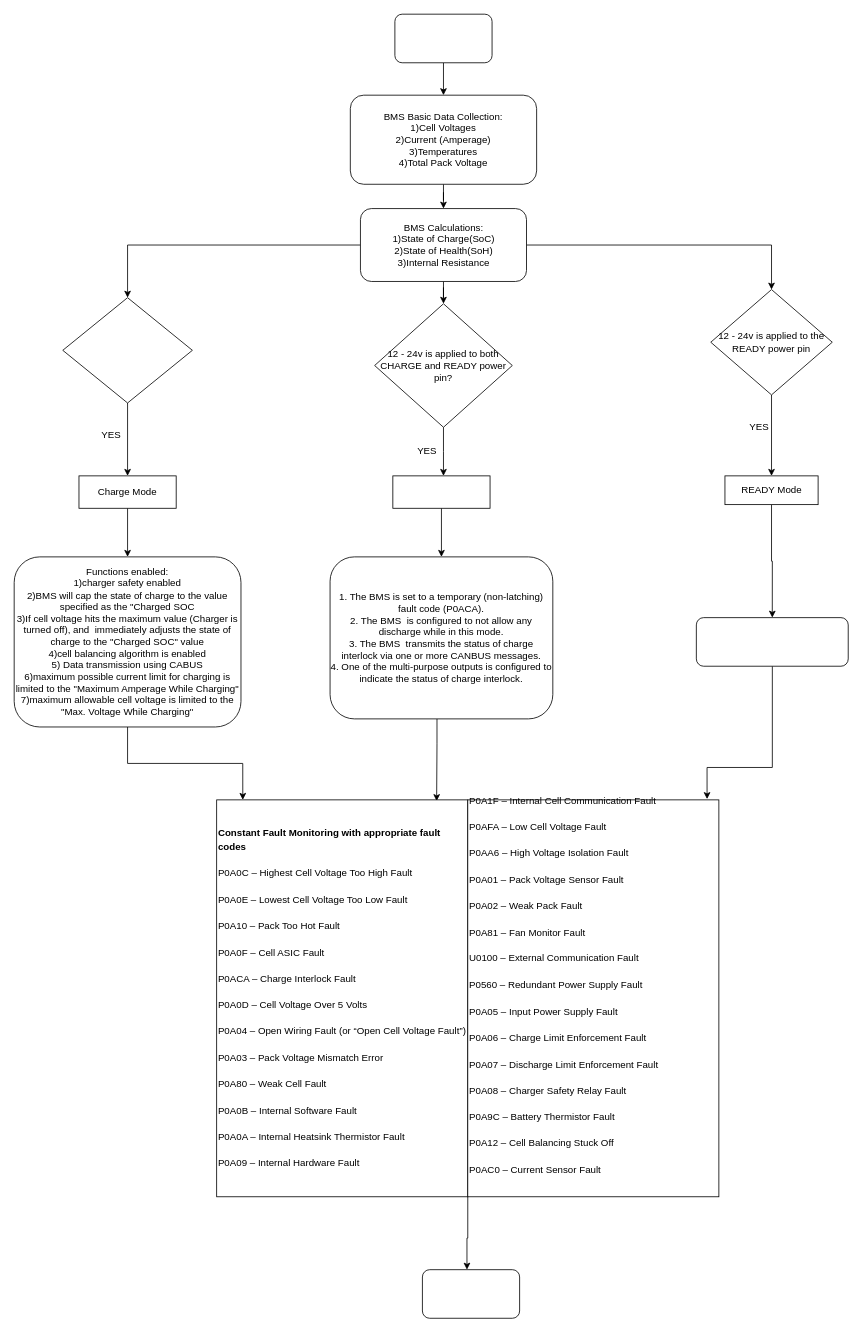
This 863x1332 diagram has some shape labels left out. Here are the shapes that lost their labels. From the top down, the centre of each, then its label:
At [443,38]: "BMS Power ON".
At [127,350]: "12 - 24v is applied to the CHARGE power pin?".
At [441,491]: "Charge Interlock Mode".
At [772,641]: "1)Discharge Enabled 2)Discharge Current Limit 3)".
At [471,1293]: "Fault handling by either BMS or VCU based on the type of Fault".
